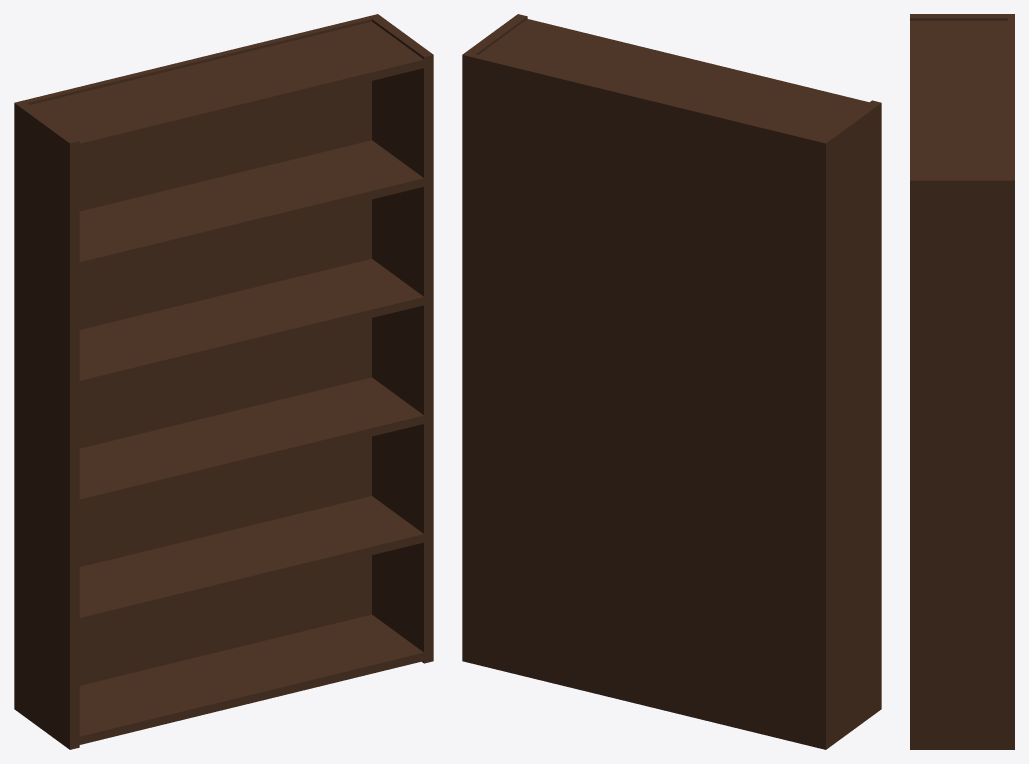
File: shelf-book.glb
3 views of the same model, side by side, from view 1: azimuth 30°, elevation 25°; view 2: azimuth 150°, elevation 25°; view 3: azimuth 270°, elevation 25° (orthographic). The views are drawn at different scales.
Bounding box in the file's own units: 1.13 × 1.8 × 0.3.
